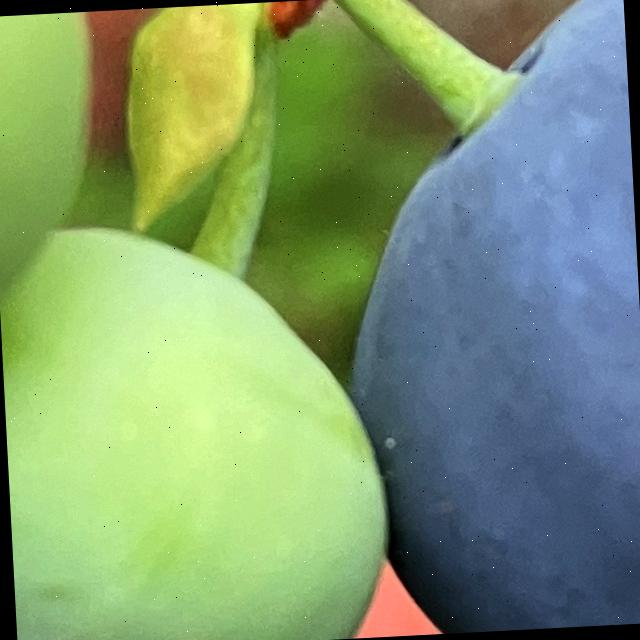Blueberries: (325, 0, 640, 638), (0, 207, 393, 640)
